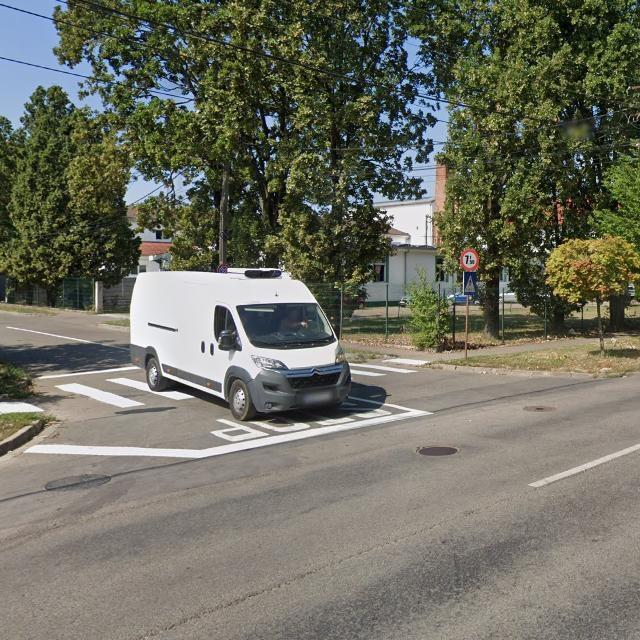info_crosswalk: (462, 272, 478, 295)
